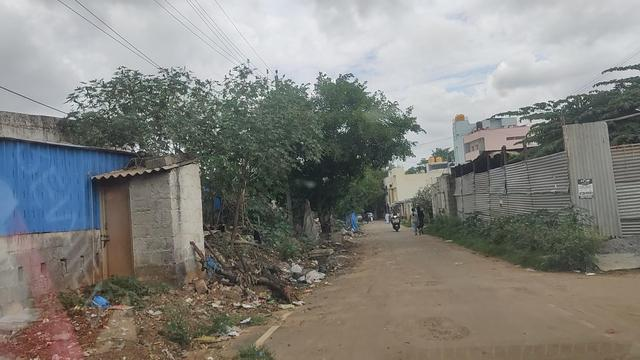RoadDamages: (410, 303, 469, 349)
